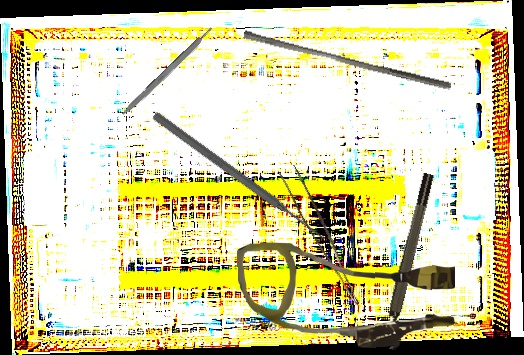Cannula: (237, 239, 456, 350)
Fixation Ring: (374, 171, 445, 352)
Pusher: (150, 109, 330, 246), (241, 30, 454, 90)
Scalpel Handle: (120, 26, 216, 118)
Tissue Forceps: (275, 164, 375, 306)
